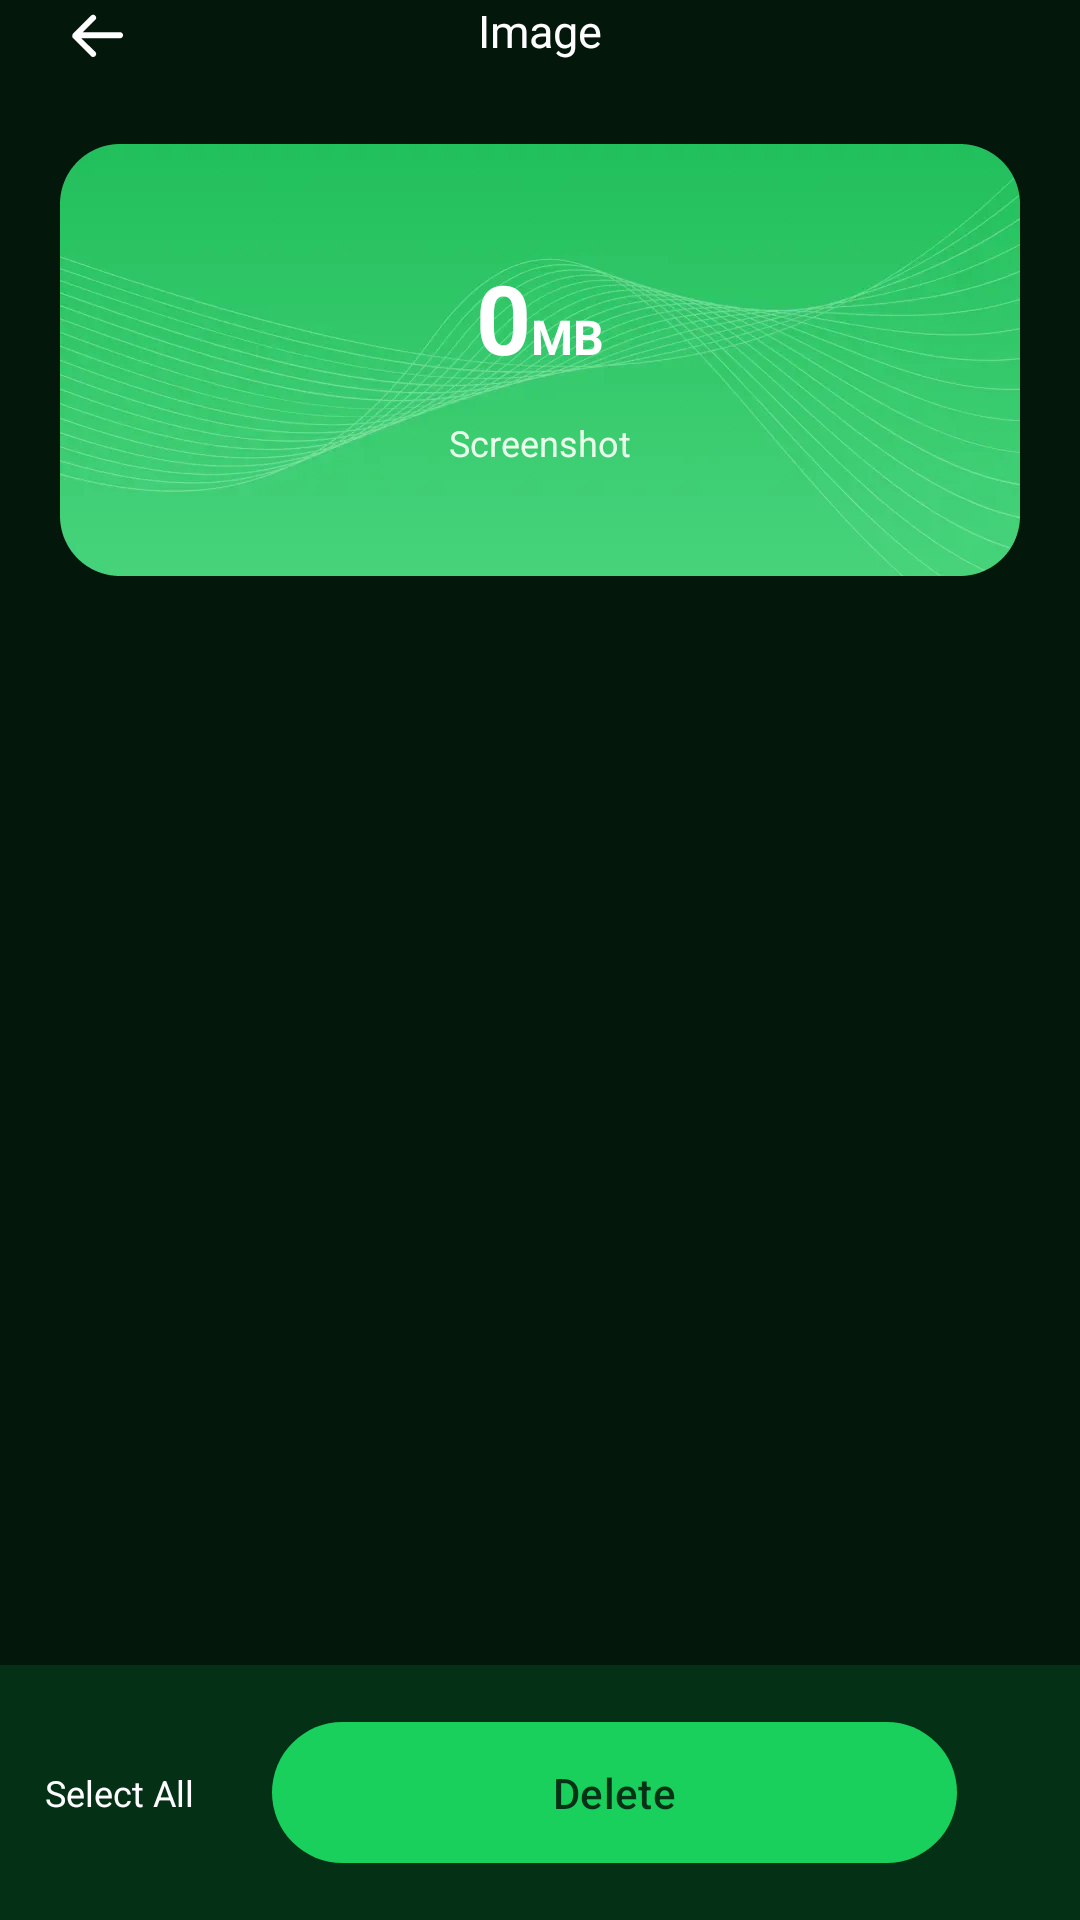

Locate icon controls on the screen. Image size 1080x1920, boxes as [left=x1, top=y1, right=x2, bottom=y2].
back: [left=72, top=14, right=123, bottom=57]
